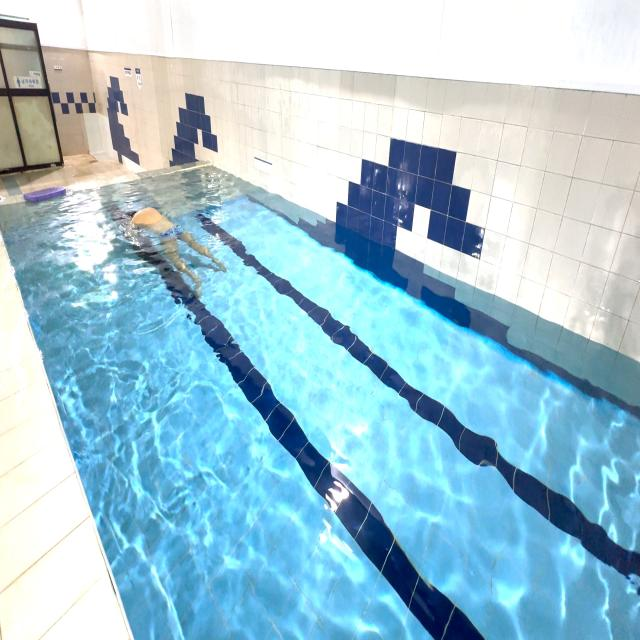Drowning: (116, 190, 228, 302)
